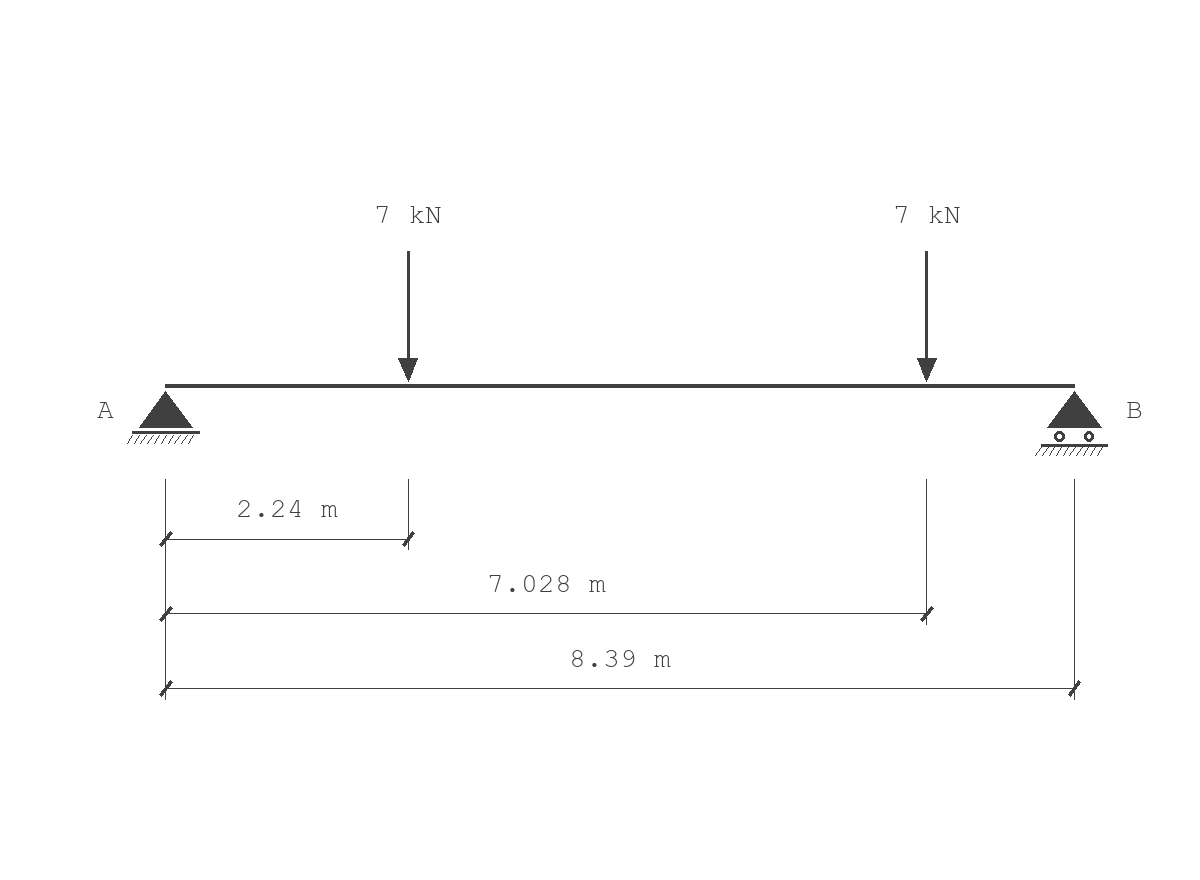pin_support: (127, 391, 200, 444)
point_load: (398, 251, 418, 382), (917, 251, 937, 382)
roller_support: (1035, 391, 1108, 456)
